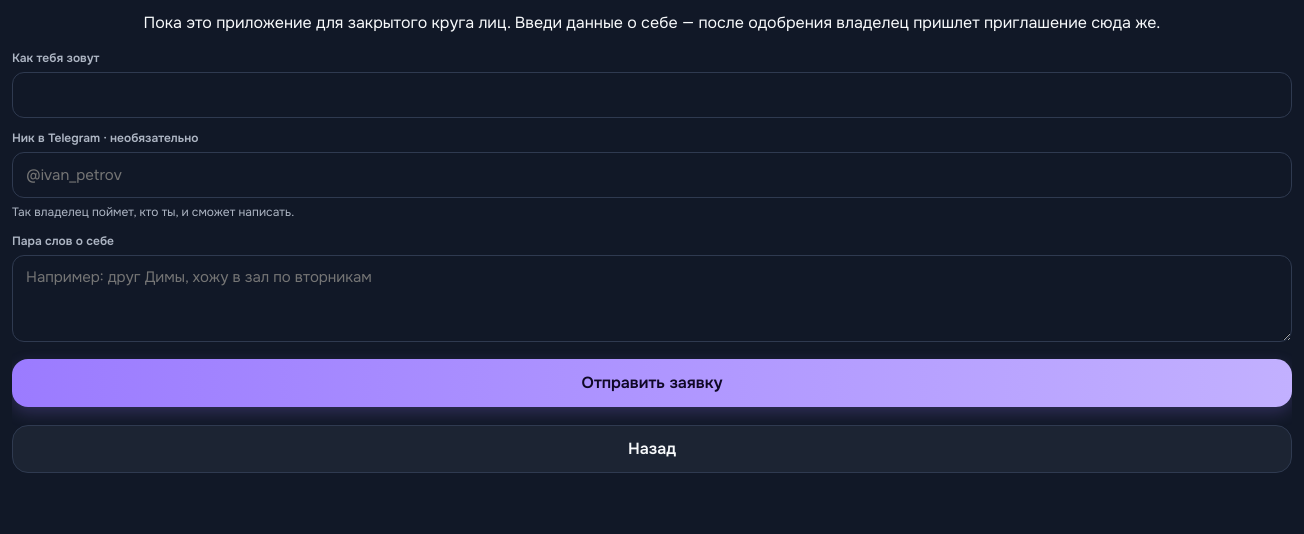
Test: JoinRequestForm › без имени — подсказка, без запроса
The width and height of the screenshot is (1304, 534).
Click the button "Отправить заявку": (652, 383) [12,359,1292,407]
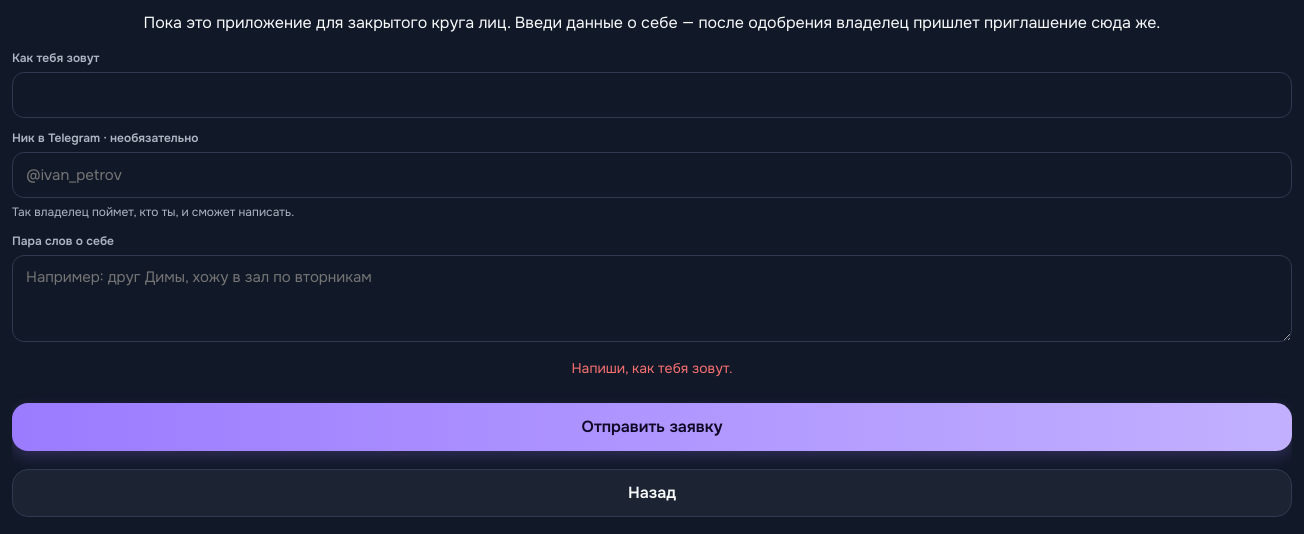
Check: the message reads "Напиши, как тебя зовут.", box [571,359,732,377]
